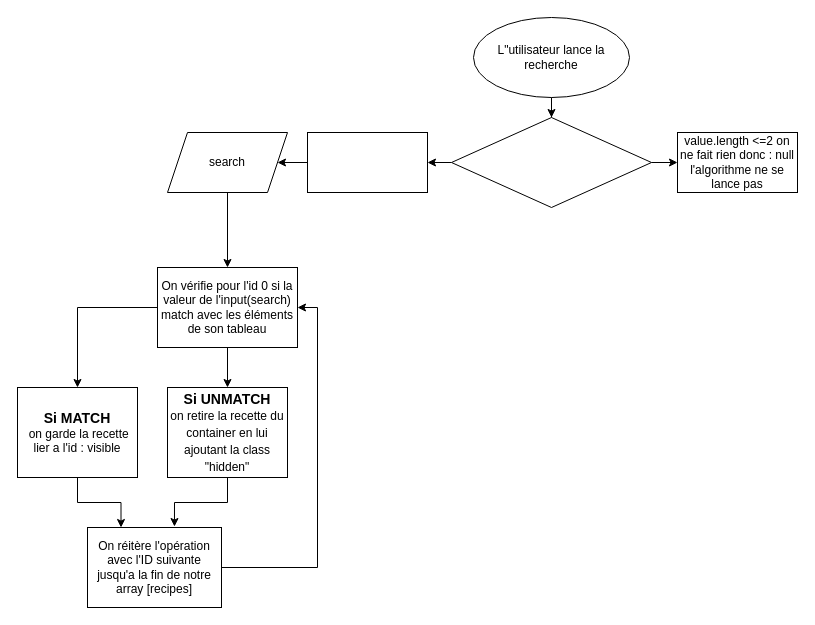
This 815x625 diagram has some shape labels left out. Each missing label, with the centre of its shape:
"on test le nombre de caractères de l'input si >=3" belongs at point 551,162.
"value.length >=3 alors on la stock dans la une variable" belongs at point 367,162.
